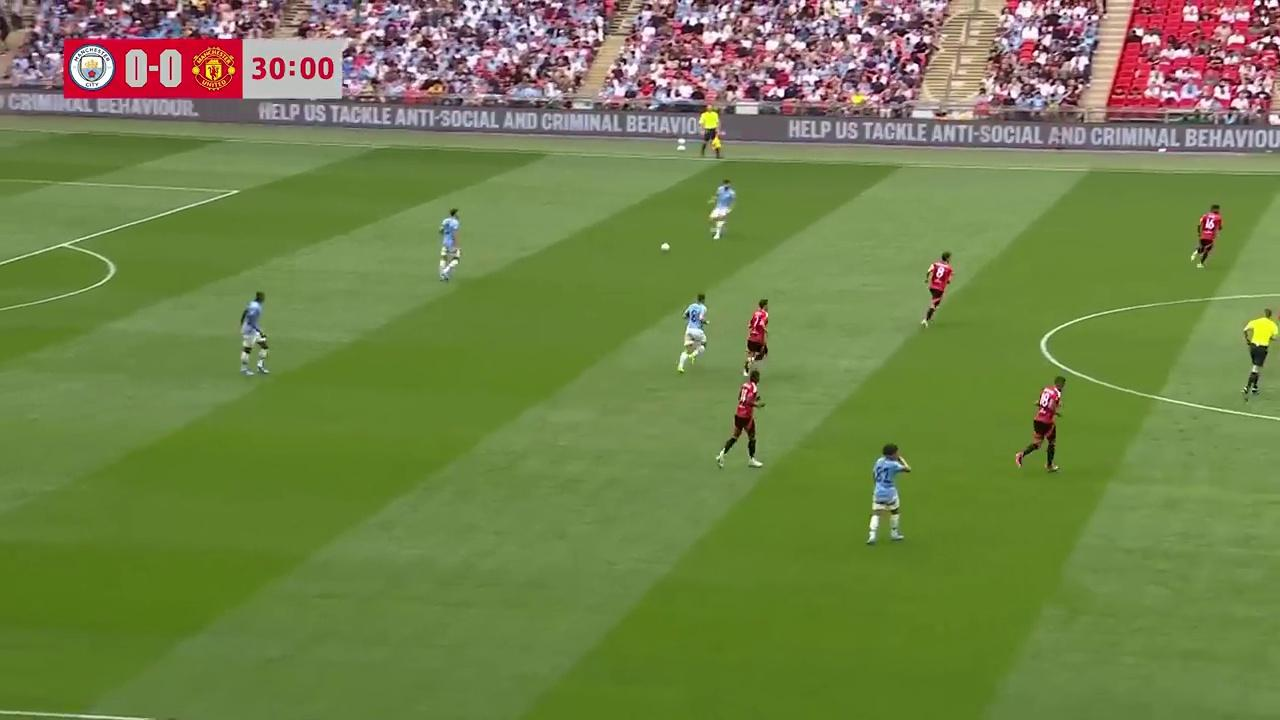ball: (659, 238, 672, 254)
player: (715, 370, 764, 469), (1015, 378, 1064, 474), (865, 444, 911, 545), (238, 291, 270, 377), (677, 293, 709, 373), (922, 251, 953, 328), (1190, 203, 1222, 267), (744, 299, 769, 371), (708, 177, 735, 240), (438, 208, 460, 281)
referee: (1242, 306, 1277, 401), (698, 104, 723, 158)
